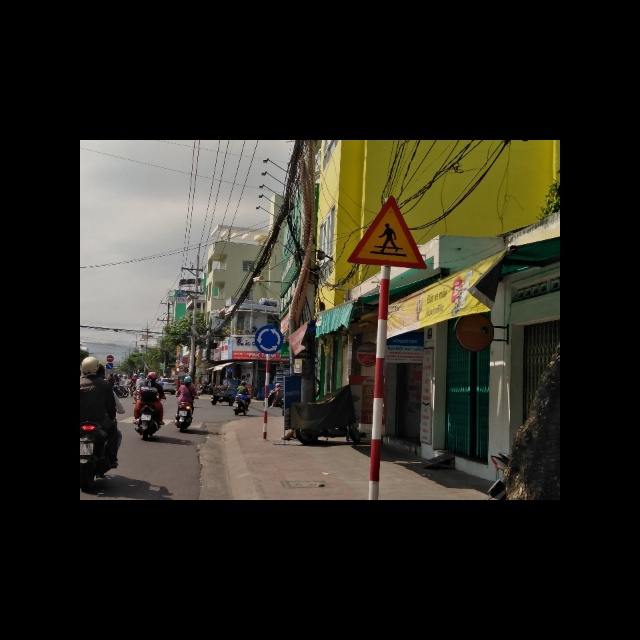Nơi giao nhau chạy theo vòng xuyến: (254, 325, 283, 354)
Đường người đi bộ sang đường: (345, 195, 428, 272)
